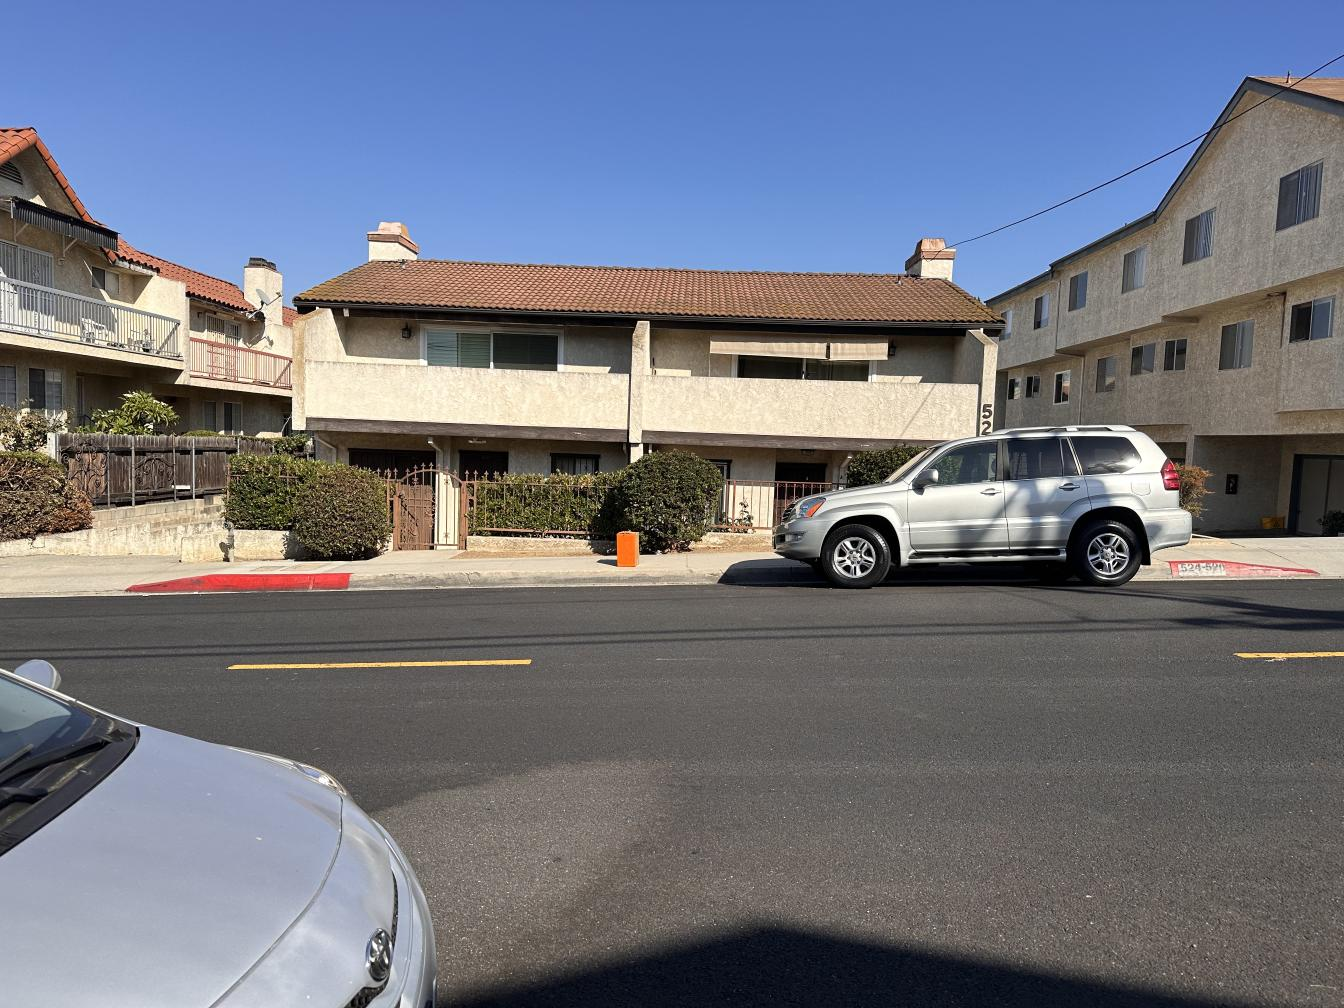curbs-laRr: (351, 572, 749, 587)
orange box: (615, 532, 641, 566)
